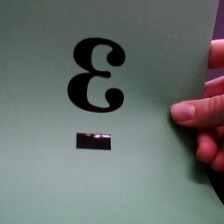green3: (62, 31, 129, 154)
